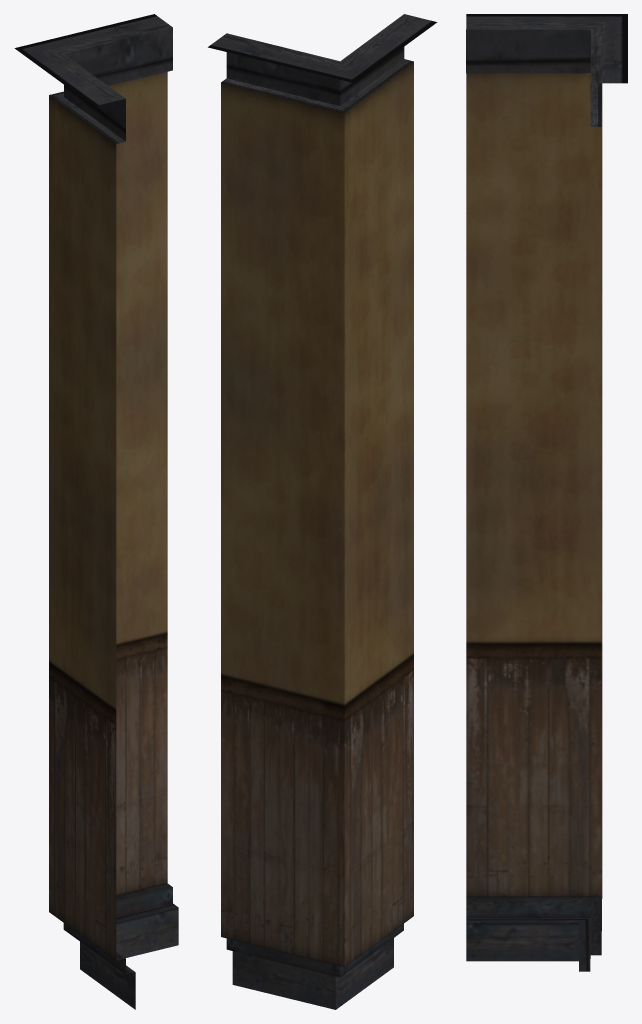
The model's file is Wall_Corner1_left.FBX.
3 renders of one model, left to right at view 1: azimuth 30°, elevation 25°; view 2: azimuth 150°, elevation 25°; view 3: azimuth 270°, elevation 25°, orthographic. The views are drawn at different scales.
Parts seen in each view (by area): view 1: Wall_corner1_left; view 2: Wall_corner1_left; view 3: Wall_corner1_left.
Boxes of the visible parts, x1=… form: Wall_corner1_left: x1=14, y1=14, x2=178, y2=1009; Wall_corner1_left: x1=208, y1=14, x2=437, y2=1009; Wall_corner1_left: x1=466, y1=14, x2=627, y2=971.
Bounding box in the file's own units: 0.729 × 4.54 × 0.7173.
